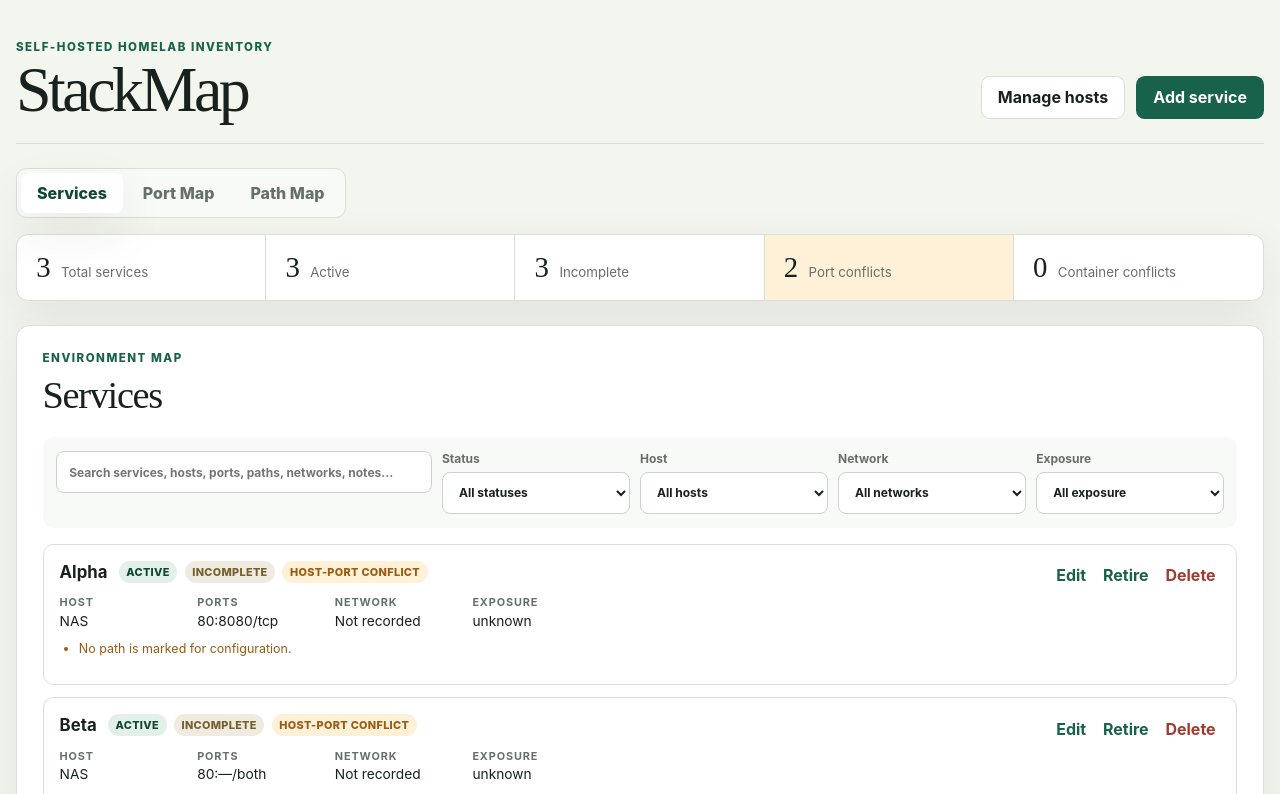
Test: StackMap service workflows › defaults to Services and switches accessibly to grouped Port Map assignments
Expected: the heading "Services" is shown, [43, 373, 183, 417]
Click the button "Port Map": (179, 193) [127, 173, 230, 213]
(page scrolled)
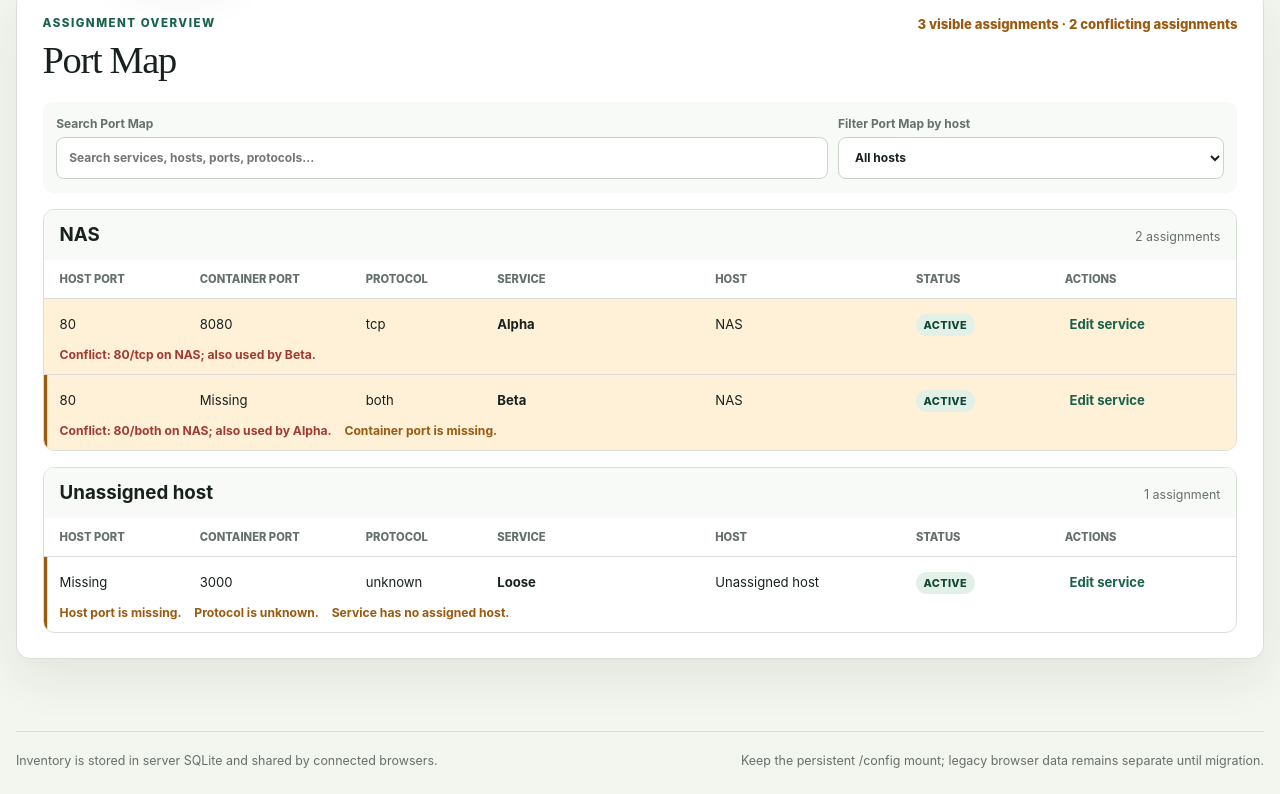
Now the heading "Port Map" is shown, box [43, 39, 176, 81]
Now the heading "NAS" is shown, box [60, 223, 100, 246]
Now the heading "Unassigned host" is shown, box [60, 481, 213, 504]
